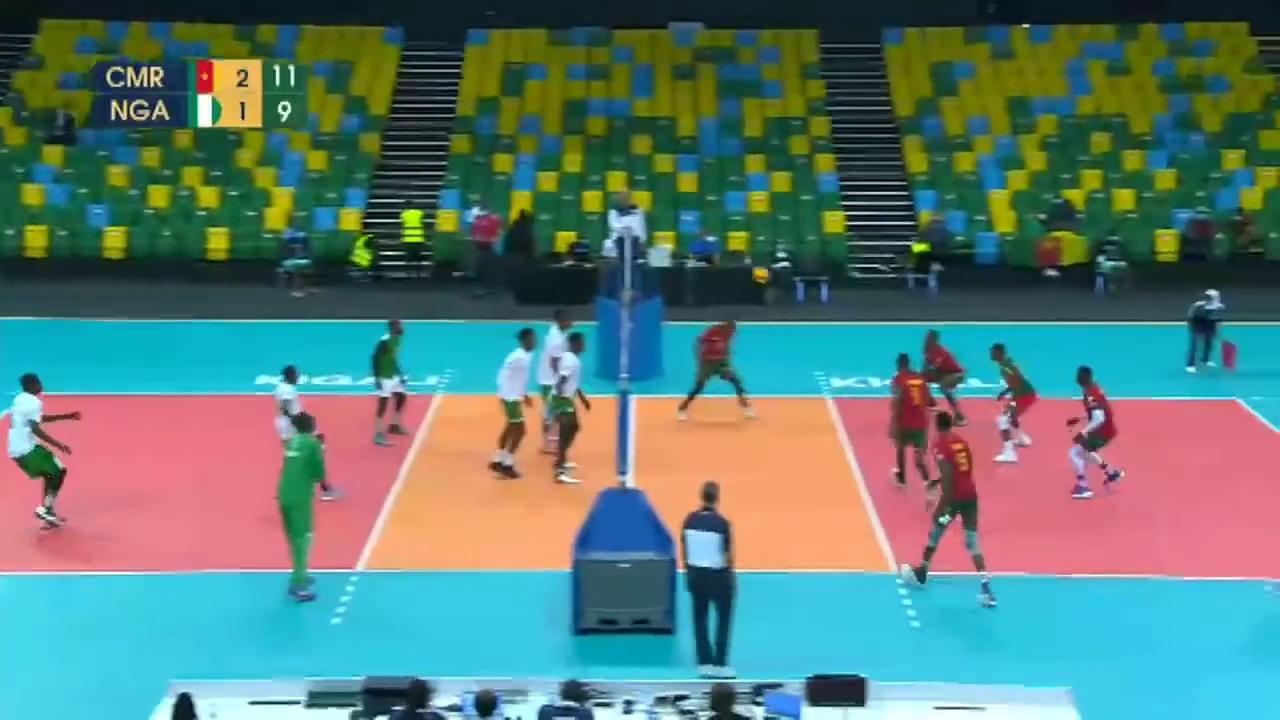player: (919, 410, 997, 616), (260, 358, 344, 506), (3, 377, 73, 524), (491, 331, 553, 478), (541, 336, 592, 481), (682, 320, 755, 418), (1067, 370, 1122, 499), (538, 311, 586, 451), (889, 352, 937, 485), (987, 346, 1035, 463), (917, 324, 970, 426), (371, 321, 412, 441)
refree: (676, 472, 742, 671), (601, 186, 646, 290), (1183, 289, 1225, 378)
